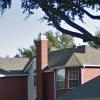Chimney: (31, 26, 53, 67)
